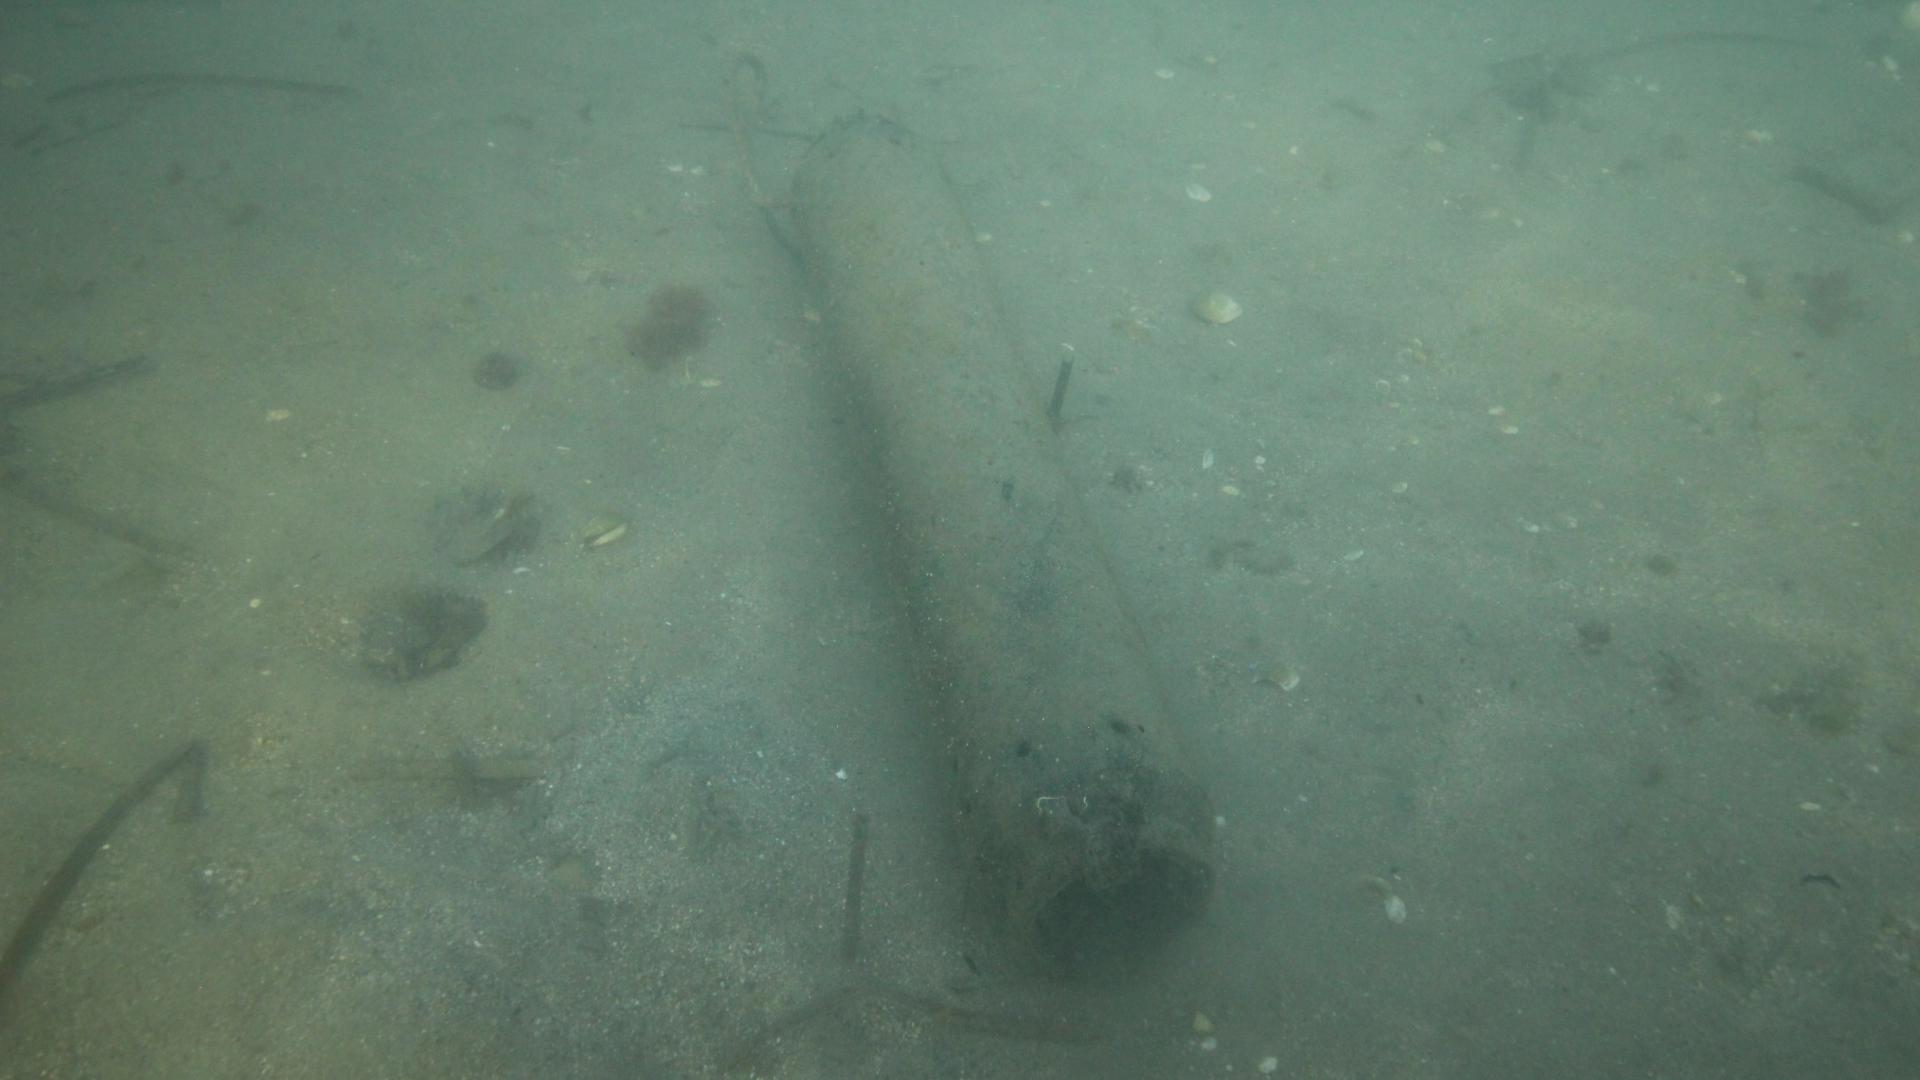eel fish trap: (790, 113, 1222, 982)
rope: (720, 47, 803, 258)
